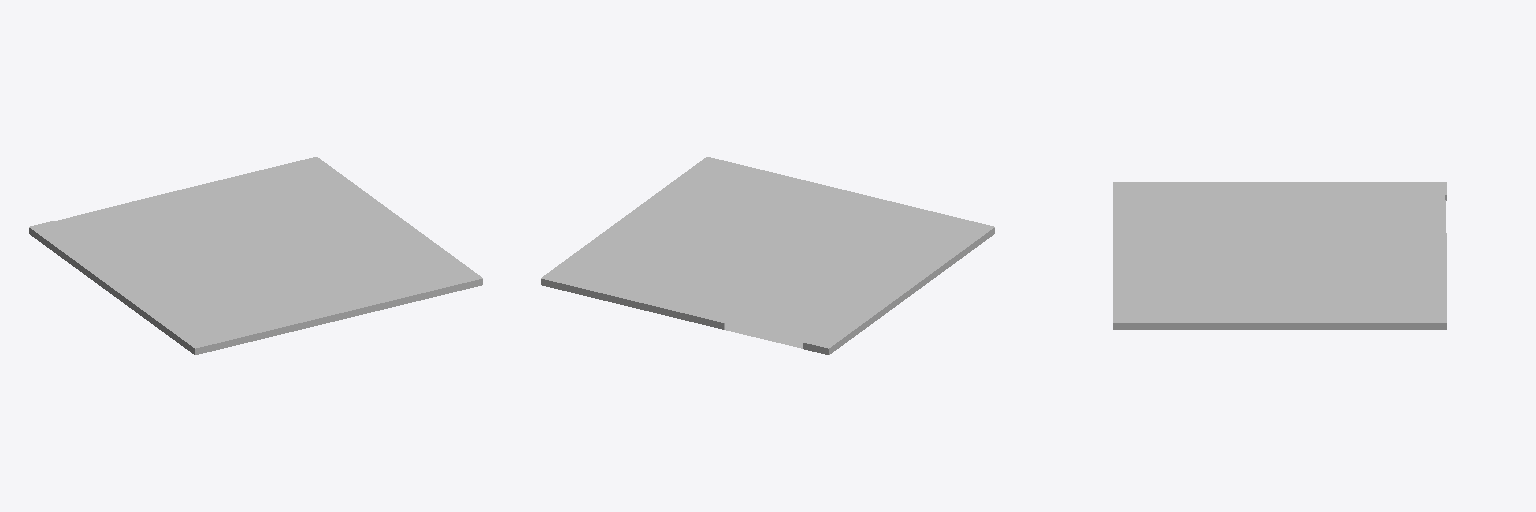
Rendered from EscapeRoom_chairRail.obj.
The picture shows the model from 3 angles: view 1: azimuth 30°, elevation 25°; view 2: azimuth 150°, elevation 25°; view 3: azimuth 270°, elevation 25°; orthographic projection.
Parts seen in each view (by area): view 1: Mesh1 Group1 Model; view 2: Mesh1 Group1 Model; view 3: Mesh1 Group1 Model.
Boxes of the visible parts, x1=… form: Mesh1 Group1 Model: x1=29, y1=157, x2=482, y2=354; Mesh1 Group1 Model: x1=541, y1=157, x2=994, y2=354; Mesh1 Group1 Model: x1=1113, y1=182, x2=1446, y2=329.
Bounding box in the file's own units: 4 × 0.09 × 4.